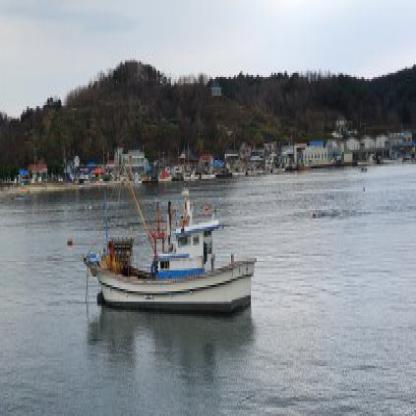fish-b: (76, 204, 266, 339)
